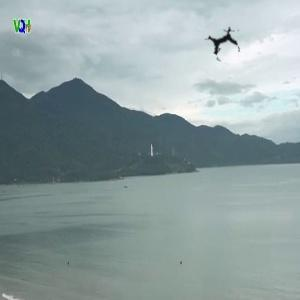drone: (192, 8, 260, 76)
